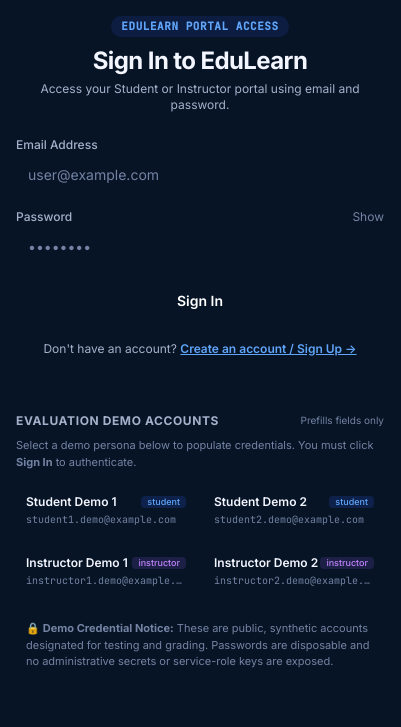
Test: LoginPage Component Tests › populates fields when a demo button is clicked WITHOUT auto-submitting
This screenshot has width=401, height=727.
Click the text "Student Demo 1". click: click(71, 502)
box: [26,494,116,510]
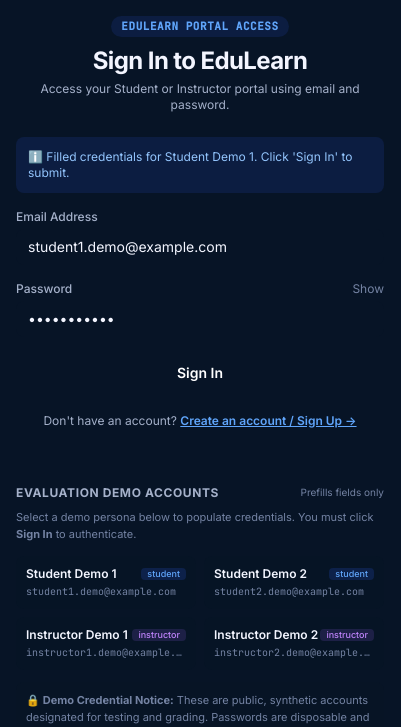
Now the field labelled "Email Address" holds "student1.demo@example.com", box [16,228,384,264]
Now the password field labelled "Password" holds "Student123!", box [16,300,384,336]
Now the text "Filled credentials for Student Demo 1" is shown, box [28,148,352,180]
